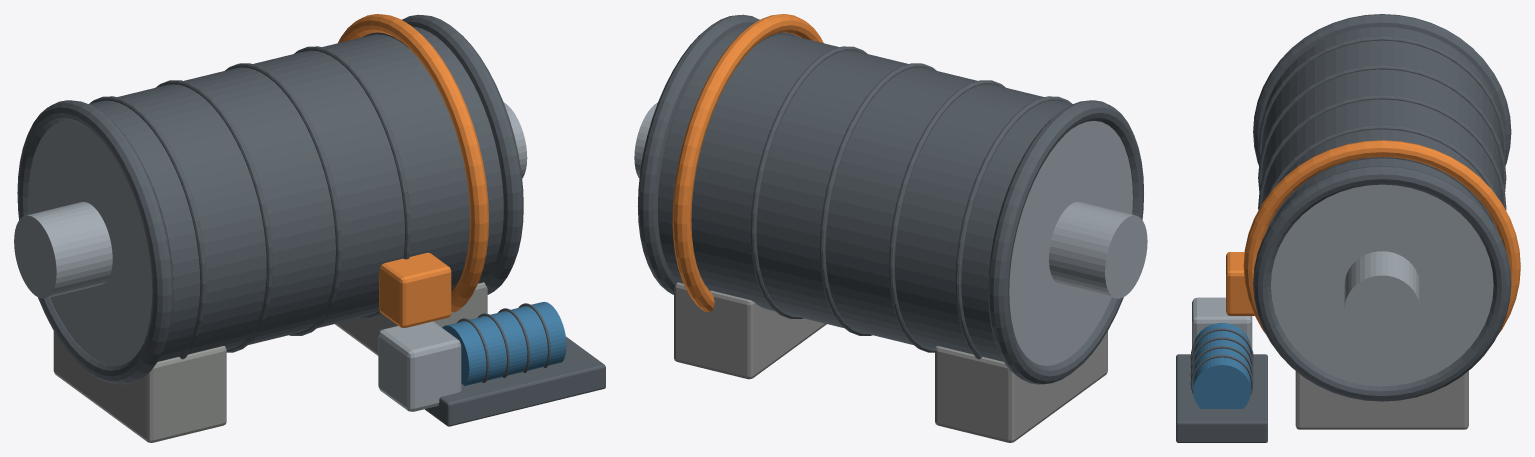
File: MILL-01.glb
3 views of the same model, side by side, from view 1: azimuth 30°, elevation 25°; view 2: azimuth 150°, elevation 25°; view 3: azimuth 270°, elevation 25° (orthographic). The views are drawn at different scales.
Visible parts, largest first — view 1: MILL-01_LINER_BAND, MILL-01_SHELL, MILL-01_END_RING_01, MILL-01_BEARING_PLINTH_L, MILL-01_TRUNNION_01, MILL-01_RING_GEAR, MILL-01_DRIVE_BASE, MILL-01_END_RING_02, MILL-01_MOTOR, MILL-01_GEARBOX, MILL-01_DETAIL_PINION_GUARD, MILL-01_DETAIL_SHELL_RIB_03 (+6 smaller); view 2: MILL-01_LINER_BAND, MILL-01_SHELL, MILL-01_END_RING_01, MILL-01_BEARING_PLINTH_L, MILL-01_BEARING_PLINTH_R, MILL-01_TRUNNION_01, MILL-01_RING_GEAR, MILL-01_END_RING_02, MILL-01_DETAIL_SHELL_RIB_03, MILL-01_DETAIL_SHELL_RIB_04, MILL-01_DETAIL_SHELL_RIB_02, MILL-01_DETAIL_SHELL_RIB_01 (+1 smaller); view 3: MILL-01_SHELL, MILL-01_LINER_BAND, MILL-01_END_RING_02, MILL-01_RING_GEAR, MILL-01_BEARING_PLINTH_R, MILL-01_TRUNNION_02, MILL-01_DRIVE_BASE, MILL-01_END_RING_01, MILL-01_MOTOR, MILL-01_DETAIL_SHELL_RIB_02, MILL-01_DETAIL_SHELL_RIB_01, MILL-01_DETAIL_SHELL_RIB_03 (+5 smaller).
Part boxes in pixels (<box>): MILL-01_LINER_BAND: <box>89,26,503,361</box>; MILL-01_SHELL: <box>28,121,152,365</box>; MILL-01_END_RING_01: <box>17,100,173,384</box>; MILL-01_BEARING_PLINTH_L: <box>53,331,226,442</box>; MILL-01_TRUNNION_01: <box>14,202,112,298</box>; MILL-01_RING_GEAR: <box>338,14,488,312</box>; MILL-01_DRIVE_BASE: <box>425,336,605,426</box>; MILL-01_END_RING_02: <box>402,14,523,294</box>; MILL-01_MOTOR: <box>442,302,566,385</box>; MILL-01_GEARBOX: <box>378,321,461,411</box>; MILL-01_DETAIL_PINION_GUARD: <box>379,252,451,327</box>; MILL-01_DETAIL_SHELL_RIB_03: <box>225,63,341,335</box>; MILL-01_LINER_BAND: <box>658,26,1072,361</box>; MILL-01_SHELL: <box>1009,121,1132,365</box>; MILL-01_END_RING_01: <box>988,100,1143,384</box>; MILL-01_BEARING_PLINTH_L: <box>935,331,1107,442</box>; MILL-01_BEARING_PLINTH_R: <box>674,282,826,379</box>; MILL-01_TRUNNION_01: <box>1049,202,1147,298</box>; MILL-01_RING_GEAR: <box>672,14,823,312</box>; MILL-01_END_RING_02: <box>637,14,759,294</box>; MILL-01_DETAIL_SHELL_RIB_03: <box>819,63,936,335</box>; MILL-01_DETAIL_SHELL_RIB_04: <box>750,46,867,318</box>; MILL-01_DETAIL_SHELL_RIB_02: <box>888,80,1005,352</box>; MILL-01_DETAIL_SHELL_RIB_01: <box>955,96,1072,359</box>; MILL-01_SHELL: <box>1271,184,1493,386</box>; MILL-01_LINER_BAND: <box>1261,26,1502,221</box>; MILL-01_END_RING_02: <box>1253,165,1511,401</box>; MILL-01_RING_GEAR: <box>1243,140,1520,334</box>; MILL-01_BEARING_PLINTH_R: <box>1295,371,1468,429</box>; MILL-01_TRUNNION_02: <box>1344,251,1419,343</box>; MILL-01_DRIVE_BASE: <box>1176,354,1267,442</box>; MILL-01_END_RING_01: <box>1253,14,1511,165</box>; MILL-01_MOTOR: <box>1193,323,1250,408</box>; MILL-01_DETAIL_SHELL_RIB_02: <box>1258,65,1506,191</box>; MILL-01_DETAIL_SHELL_RIB_01: <box>1258,36,1506,162</box>; MILL-01_DETAIL_SHELL_RIB_03: <box>1258,95,1506,210</box>.
Bounding box in the file's own units: 9.19 × 5.79 × 6.57.
